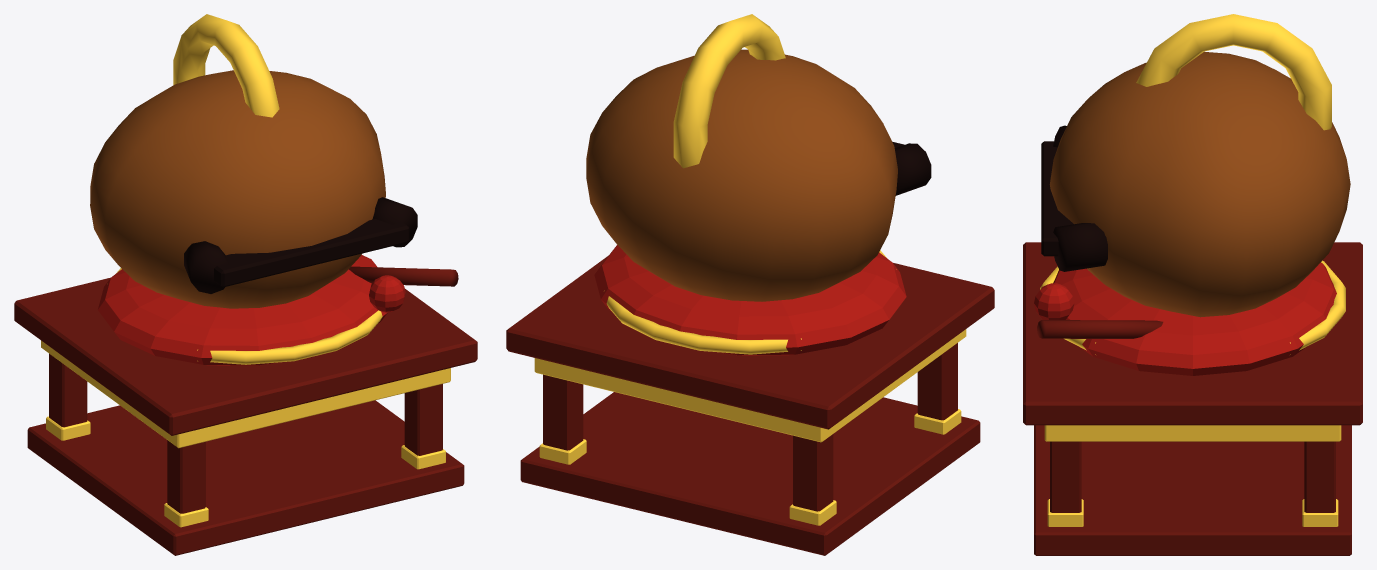
Rendered from dai_mo_ca_rong.glb.
3 views of the same model, side by side, from view 1: azimuth 30°, elevation 25°; view 2: azimuth 150°, elevation 25°; view 3: azimuth 270°, elevation 25° (orthographic). The views are drawn at different scales.
Visible parts, largest first — view 1: dai_mo_ca_rong; view 2: dai_mo_ca_rong; view 3: dai_mo_ca_rong.
Boxes of the visible parts, left/top/right/bottom form: dai_mo_ca_rong: left=14, top=14, right=477, bottom=555; dai_mo_ca_rong: left=506, top=14, right=994, bottom=555; dai_mo_ca_rong: left=1023, top=14, right=1362, bottom=555.
Bounding box in the file's own units: 2.65 × 3.56 × 2.35.
